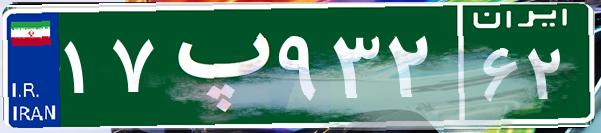1: (57, 26, 110, 107)
2: (385, 28, 445, 110), (525, 38, 570, 115)
3: (330, 28, 385, 110)
6: (475, 38, 525, 113)
7: (110, 28, 158, 105)
9: (273, 28, 330, 110)
پ: (158, 15, 273, 115)
